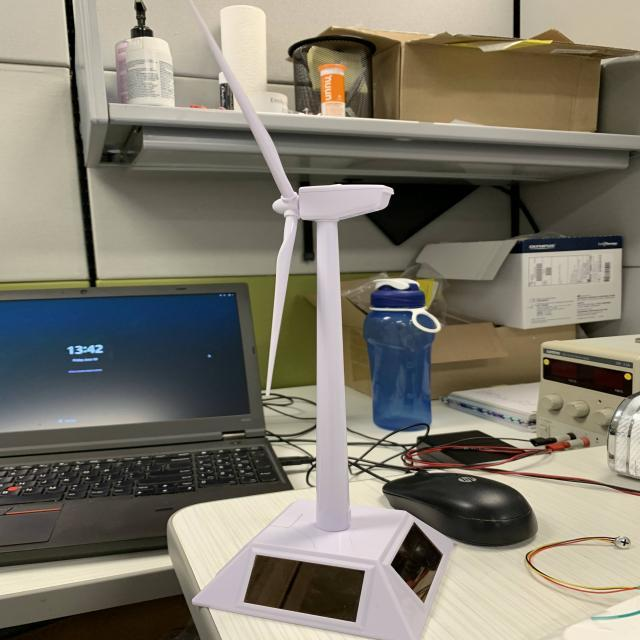solid-blade: (189, 0, 298, 199), (266, 215, 298, 394)
